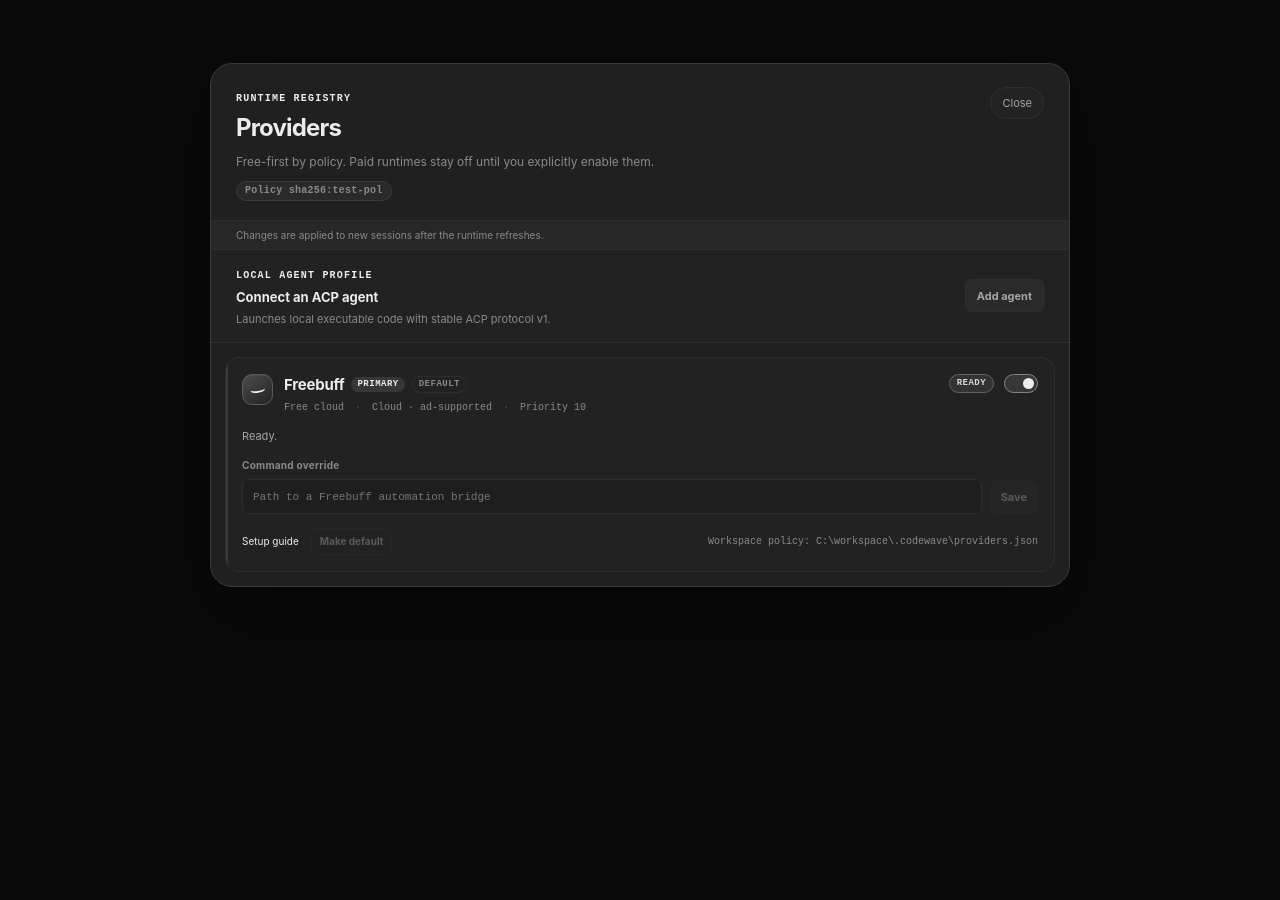
Scenario: ProviderSettings modal lifecycle › renders a registry-driven custom ACP form with explicit local-code consent
This screenshot has width=1280, height=900.
Click the button "Add agent". click: (1004, 296)
box: [965, 279, 1044, 312]
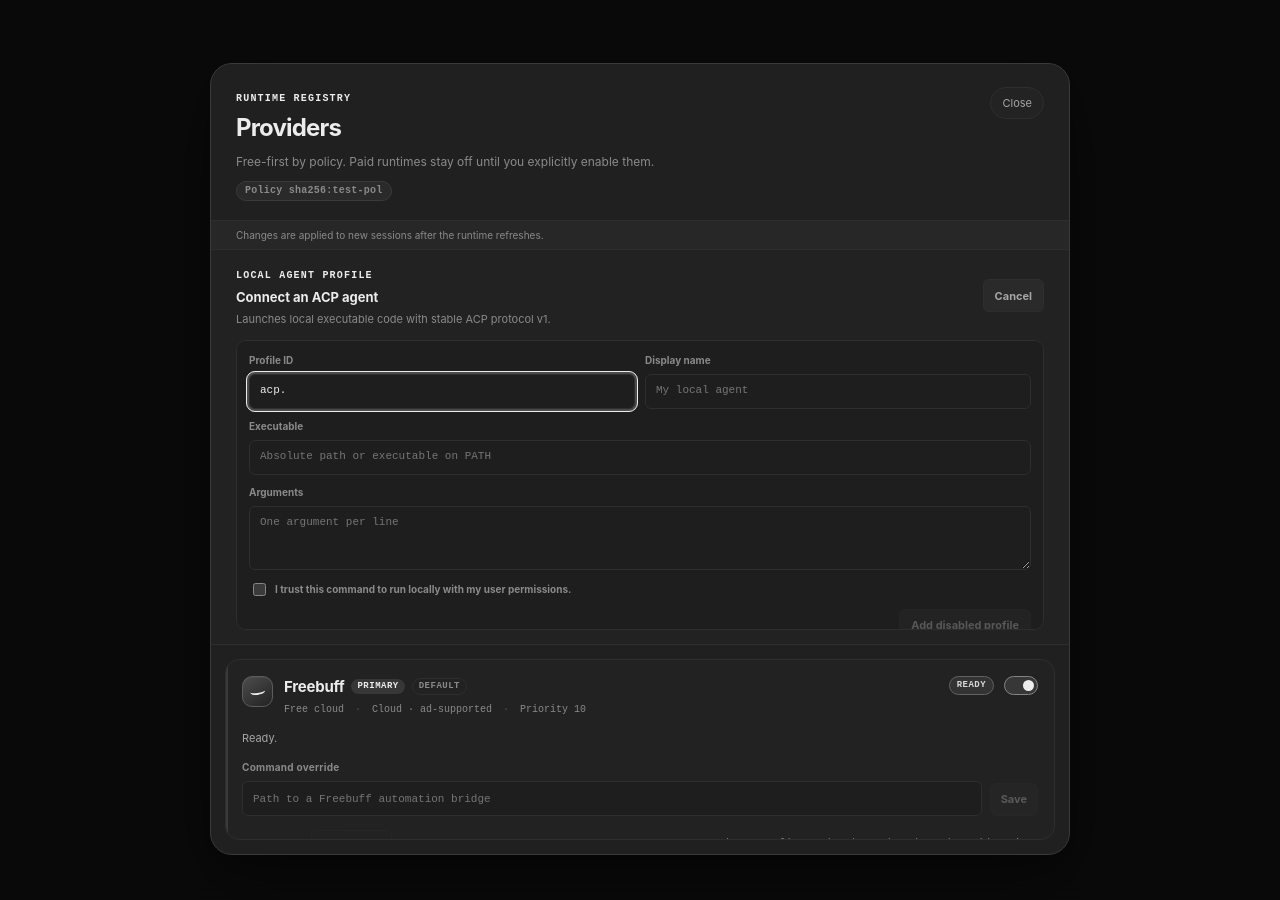
expect the field labelled "Profile ID" holds "acp.": met, box [249, 374, 635, 409]
expect the checkbox labelled "trust this command to run locally" is not checked: met, box [253, 583, 266, 596]
expect the button "Add disabled profile" is disabled: met, box [899, 609, 1031, 630]
